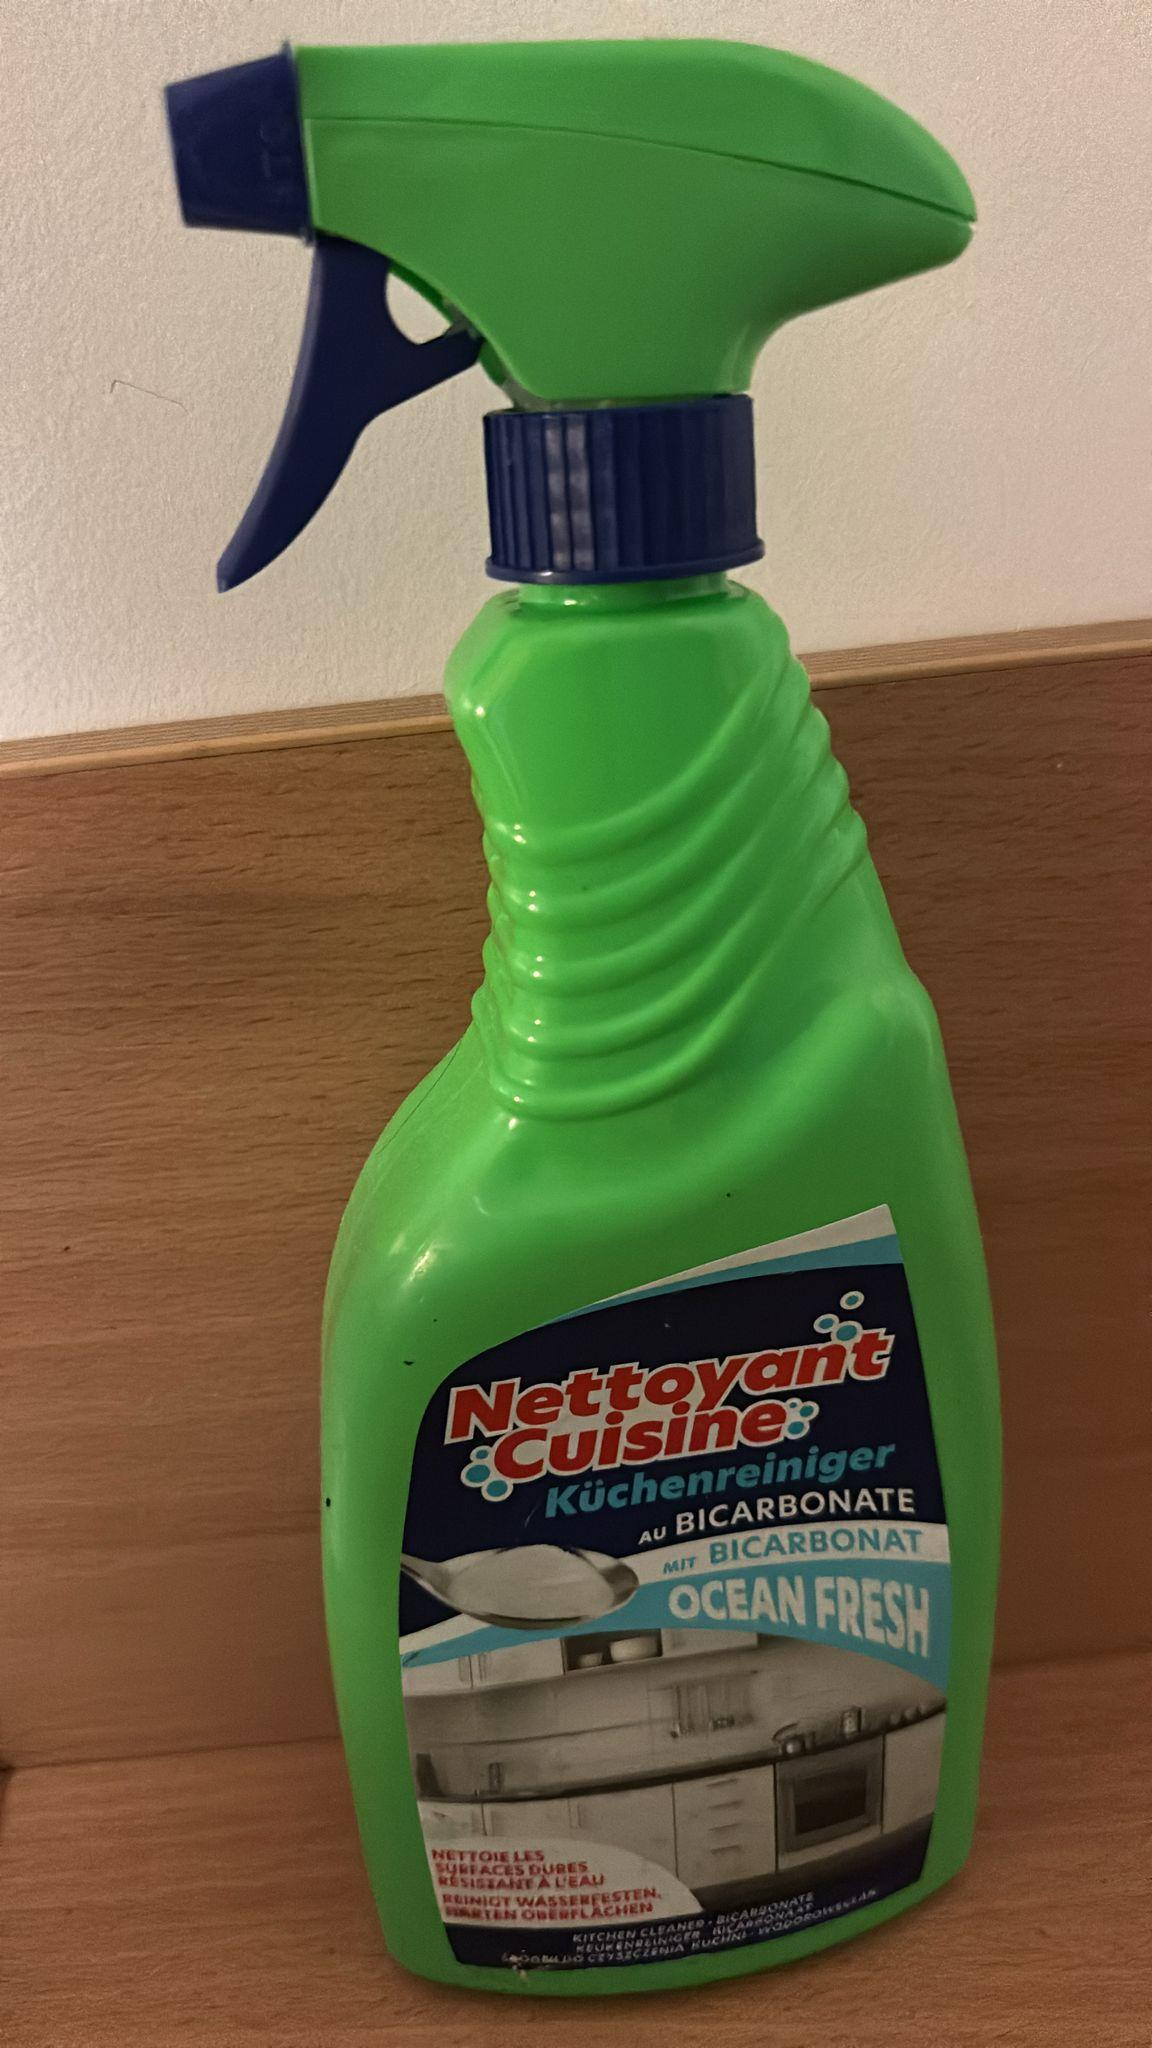HDPE: (165, 37, 1006, 1999)
cleaning: (165, 37, 1006, 1999)
plastic: (165, 37, 1006, 1999)
